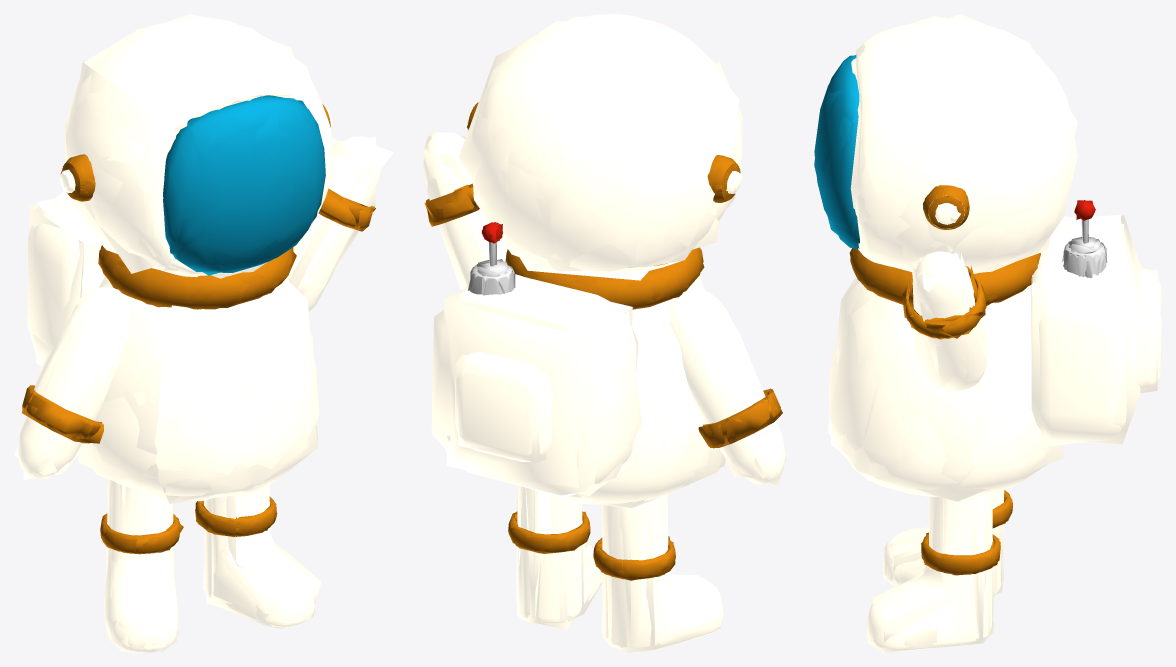
File: cute-astronaut-trim.glb
The picture shows the model from 3 angles, left to right: view 1: azimuth 30°, elevation 25°; view 2: azimuth 150°, elevation 25°; view 3: azimuth 270°, elevation 25°; orthographic projection. The views are drawn at different scales.
Parts seen in each view (by area): view 1: Astronauta.gles.002, Astronauta.gles.003, Astronauta.gles.004; view 2: Astronauta.gles.002, Astronauta.gles.003, Astronauta.gles.004; view 3: Astronauta.gles.002, Astronauta.gles.003, Astronauta.gles.004.
Part boxes in pixels (x1,y1,x2,y2): Astronauta.gles.002: (17,17,380,652); Astronauta.gles.003: (23,14,375,652); Astronauta.gles.004: (14,19,393,652); Astronauta.gles.002: (423,14,785,647); Astronauta.gles.003: (427,21,785,652); Astronauta.gles.004: (422,16,785,652); Astronauta.gles.002: (814,21,1161,651); Astronauta.gles.003: (814,16,1158,652); Astronauta.gles.004: (814,14,1142,652).
Size of the model in its own units: 4.63 by 7.25 by 3.9.
